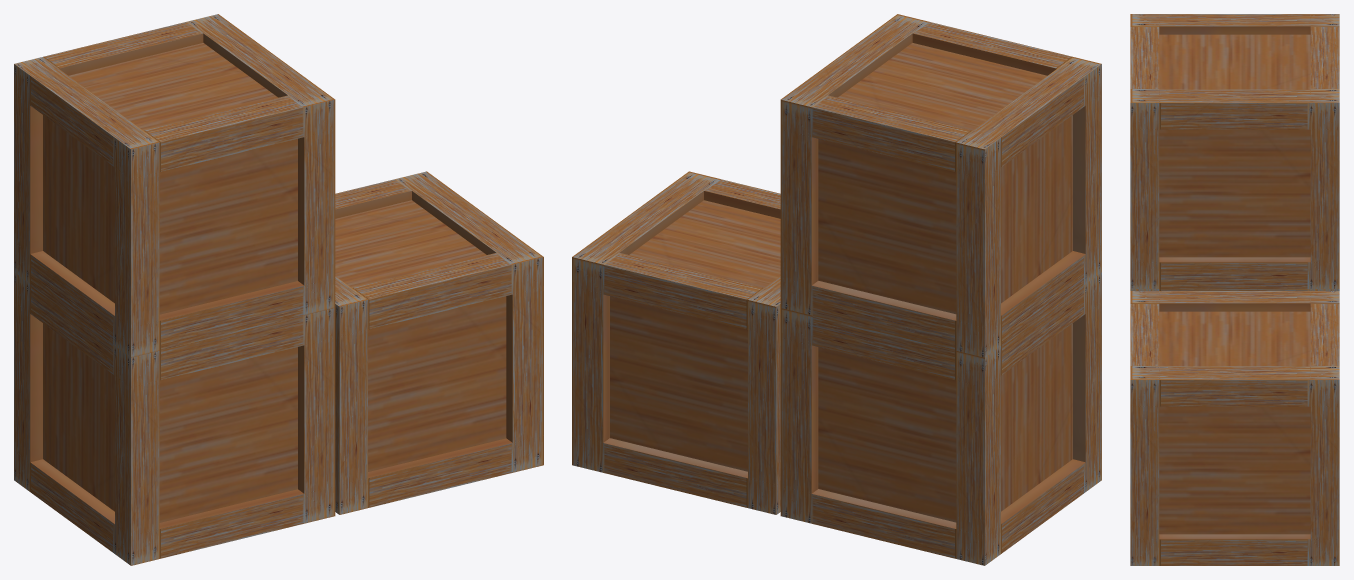
File: obj_wooden_box_1.fbx
3 renders of one model, left to right at view 1: azimuth 30°, elevation 25°; view 2: azimuth 150°, elevation 25°; view 3: azimuth 270°, elevation 25°, orthographic. The views are drawn at different scales.
Parts seen in each view (by area): view 1: obj_wooden_box_3, obj_wooden_box_1, obj_wooden_box_2; view 2: obj_wooden_box_3, obj_wooden_box_1, obj_wooden_box_2; view 3: obj_wooden_box_3, obj_wooden_box_2, obj_wooden_box_1.
Boxes of the visible parts, x1,y1,x2,y2 form: obj_wooden_box_3: (14, 14, 335, 357); obj_wooden_box_1: (14, 272, 335, 565); obj_wooden_box_2: (335, 171, 543, 514); obj_wooden_box_3: (780, 14, 1101, 357); obj_wooden_box_1: (780, 272, 1101, 565); obj_wooden_box_2: (572, 171, 780, 514); obj_wooden_box_3: (1130, 14, 1339, 288); obj_wooden_box_2: (1130, 291, 1339, 565); obj_wooden_box_1: (1130, 289, 1339, 290).
Bounding box in the file's own units: 2.33 × 2.25 × 1.14.
Materials: 1 (1 with a texture image).
